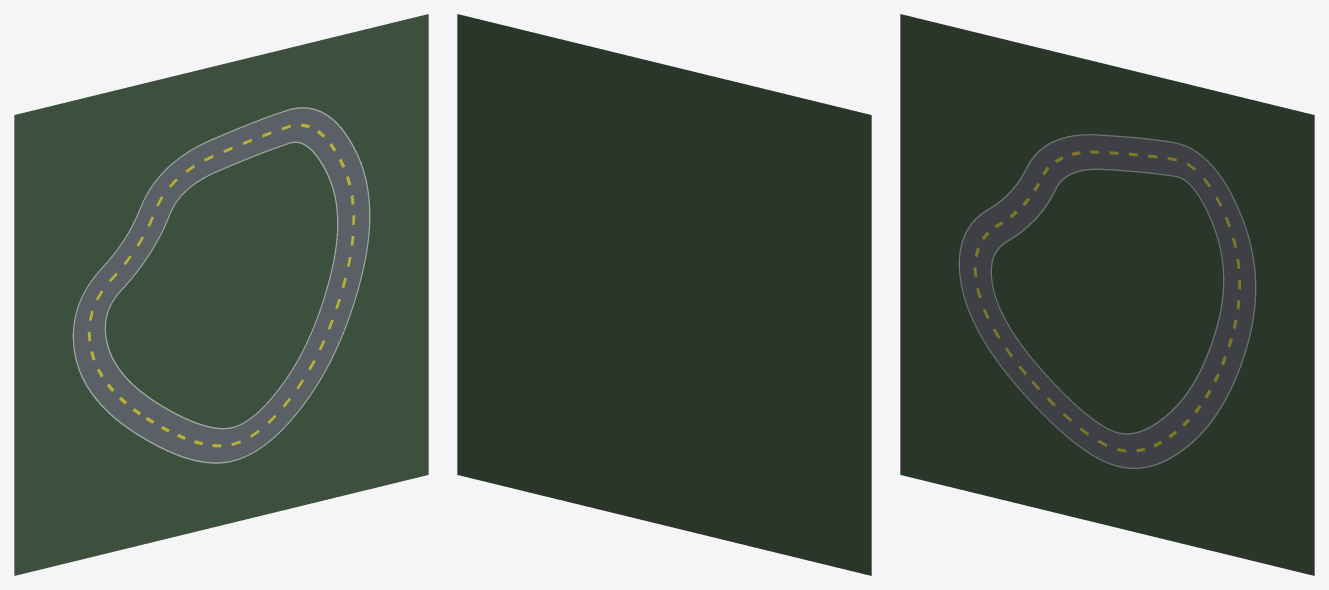
File: track.obj
The picture shows the model from 3 angles, left to right: view 1: azimuth 30°, elevation 25°; view 2: azimuth 150°, elevation 25°; view 3: azimuth 330°, elevation 25°; orthographic projection.
Size of the model in its own units: 13.75 by 14.62 by 0.0025.
4 materials, 4 textured.
